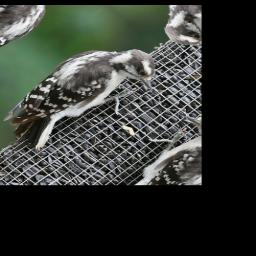Woodpecker: (0, 26, 177, 167)
